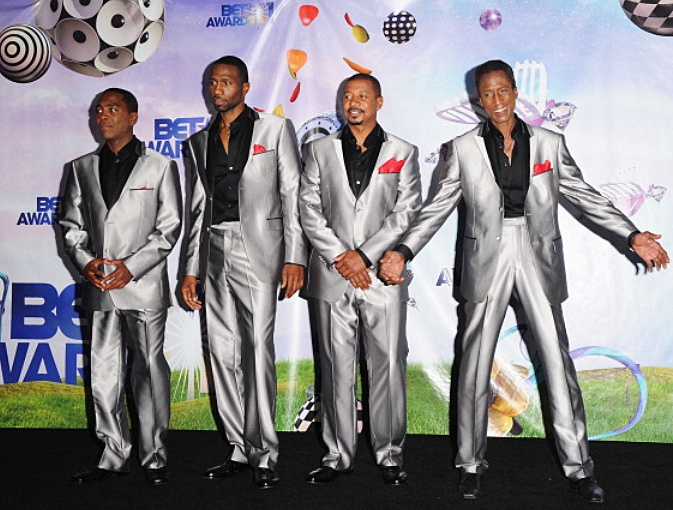bad: (84, 94, 127, 137), (337, 82, 373, 118), (201, 70, 237, 106), (477, 82, 513, 118)
